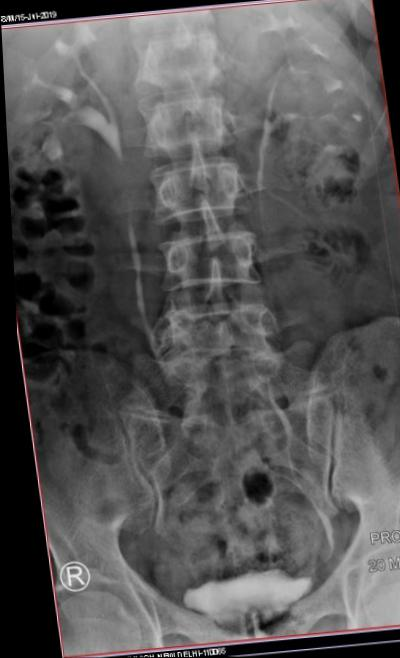bladder: (175, 564, 316, 633)
